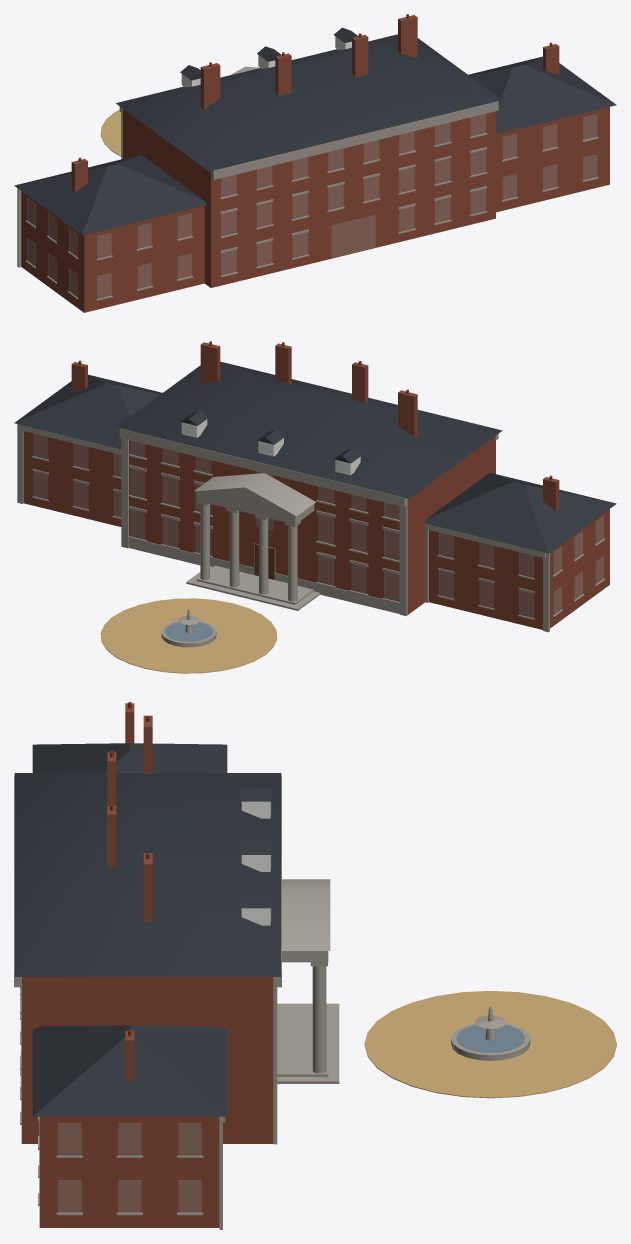
Rendered from context.type.mansion_house.glb.
The picture shows the model from 3 angles, top to bottom: view 1: azimuth 30°, elevation 25°; view 2: azimuth 150°, elevation 25°; view 3: azimuth 270°, elevation 25°; orthographic projection. The views are drawn at different scales.
Visible parts, largest first — view 1: walls__brick, roof__slate, openings__glass, openings__paving, roof__brick, ground__sand, walls__paving, roof__paint_white; view 2: walls__brick, roof__slate, openings__glass, openings__paving, ground__sand, walls__paving, roof__paving, roof__brick, ground__paving, roof__paint_white, ground__water; view 3: roof__slate, walls__brick, ground__sand, walls__paving, openings__glass, roof__paving, roof__brick, ground__paving, openings__paving, ground__water, roof__paint_white.
Part boxes in pixels (x1=…): walls__brick: x1=21, y1=107, x2=609, y2=312; roof__slate: x1=14, y1=27, x2=616, y2=235; openings__glass: x1=27, y1=114, x2=596, y2=298; openings__paving: x1=25, y1=34, x2=598, y2=300; roof__brick: x1=71, y1=15, x2=559, y2=192; ground__sand: x1=100, y1=109, x2=121, y2=156; walls__paving: x1=17, y1=108, x2=122, y2=267; roof__paint_white: x1=181, y1=36, x2=351, y2=87; walls__brick: x1=23, y1=431, x2=609, y2=629; roof__slate: x1=14, y1=362, x2=616, y2=553; openings__glass: x1=34, y1=424, x2=603, y2=617; openings__paving: x1=19, y1=361, x2=605, y2=619; ground__sand: x1=100, y1=598, x2=277, y2=673; walls__paving: x1=17, y1=424, x2=549, y2=632; roof__paving: x1=194, y1=473, x2=315, y2=524; roof__brick: x1=71, y1=342, x2=559, y2=510; ground__paving: x1=161, y1=609, x2=216, y2=647; roof__paint_white: x1=181, y1=419, x2=360, y2=475; ground__water: x1=165, y1=622, x2=212, y2=641; roof__slate: x1=14, y1=743, x2=281, y2=1116; walls__brick: x1=21, y1=977, x2=273, y2=1227; ground__sand: x1=364, y1=990, x2=616, y2=1098; walls__paving: x1=219, y1=962, x2=339, y2=1229; openings__glass: x1=21, y1=987, x2=201, y2=1212; roof__paving: x1=282, y1=879, x2=330, y2=962; roof__brick: x1=107, y1=703, x2=152, y2=1080; ground__paving: x1=451, y1=1005, x2=530, y2=1060; openings__paving: x1=14, y1=775, x2=281, y2=1215; ground__water: x1=456, y1=1025, x2=524, y2=1052; roof__paint_white: x1=241, y1=801, x2=270, y2=925.
Bounding box in the file's own units: 48.8 × 16.34 × 33.43.
